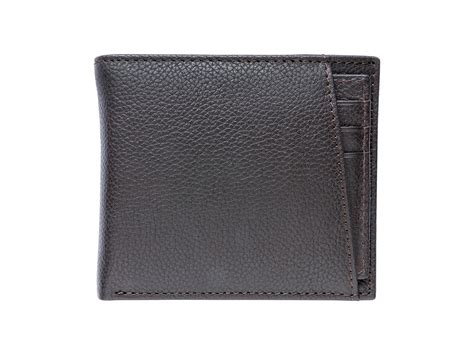cuero: (93, 54, 377, 301)
